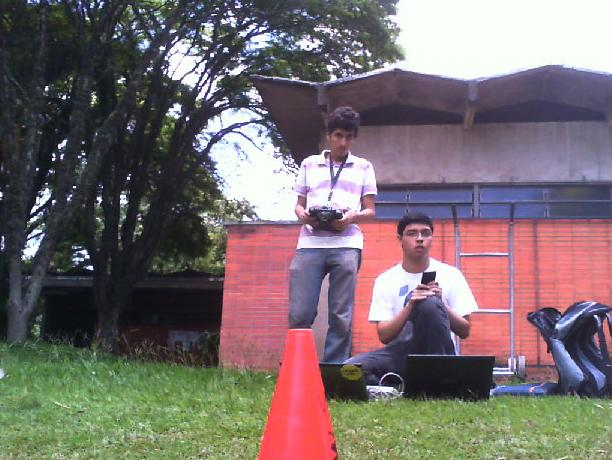0 cone: (253, 330, 341, 460)
